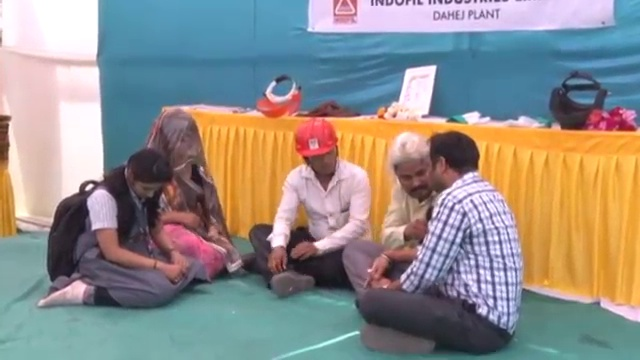helmet: (289, 122, 346, 162)
helmet_off: (422, 131, 482, 199), (385, 131, 435, 200), (114, 152, 177, 206), (151, 113, 205, 175)
helmet_on: (291, 125, 347, 185)
person: (358, 131, 525, 353), (39, 144, 204, 313), (233, 113, 373, 294), (143, 104, 238, 285), (341, 129, 442, 291)
